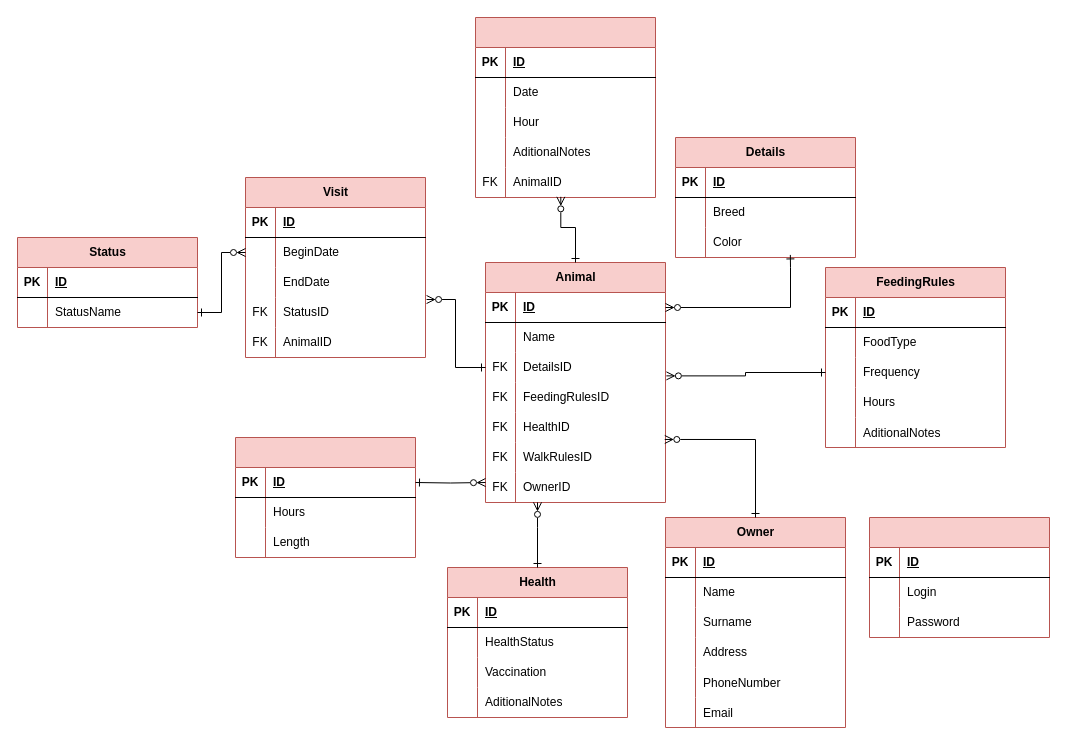
The diagram is 1067 pixels wide and 745 high, and some of its shapes have lost their labels. Each missing label, with the box of its shape:
DailyActivity: (474, 16, 656, 198)
User: (868, 516, 1050, 638)
WalksRules: (234, 436, 416, 558)
